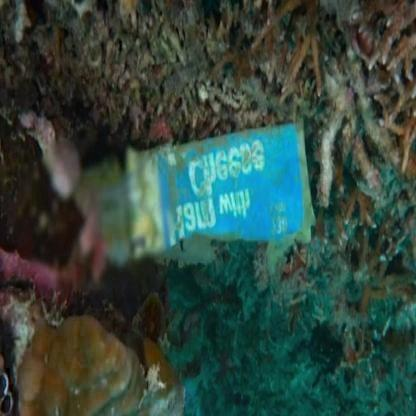plastic: (80, 115, 345, 267)
